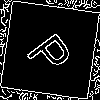P: (25, 25, 82, 79)
